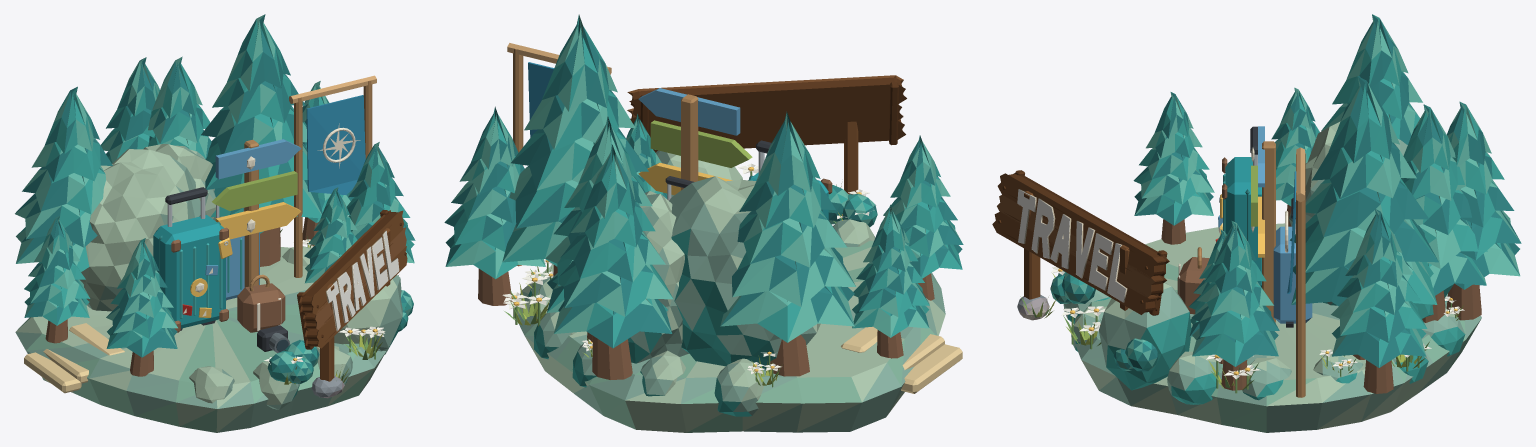
The model's file is travel.glb.
3 renders of one model, left to right at view 1: azimuth 30°, elevation 25°; view 2: azimuth 150°, elevation 25°; view 3: azimuth 270°, elevation 25°, orthographic. The views are drawn at different scales.
Visible parts, largest first — view 1: Travel color-batched geometry; view 2: Travel color-batched geometry; view 3: Travel color-batched geometry.
Part boxes in pixels (x1=…): Travel color-batched geometry: x1=15, y1=14, x2=415, y2=432; Travel color-batched geometry: x1=444, y1=14, x2=963, y2=432; Travel color-batched geometry: x1=992, y1=14, x2=1521, y2=432.
Size of the model in its own units: 6.18 by 4.69 by 6.82.
